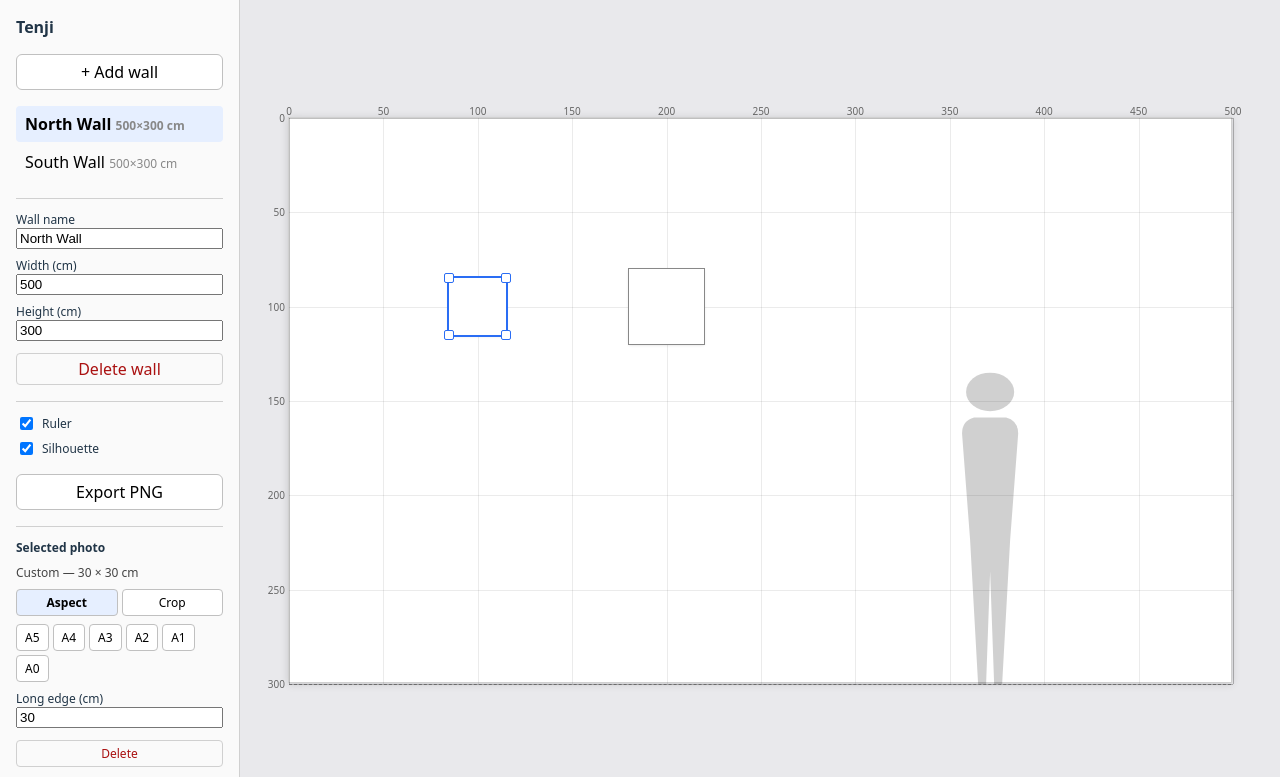
Test: App › copy/paste › right-click context menu Delete removes the selection
Right-click the element with test id "placement-pl-a": (478, 307) [450,278,506,335]
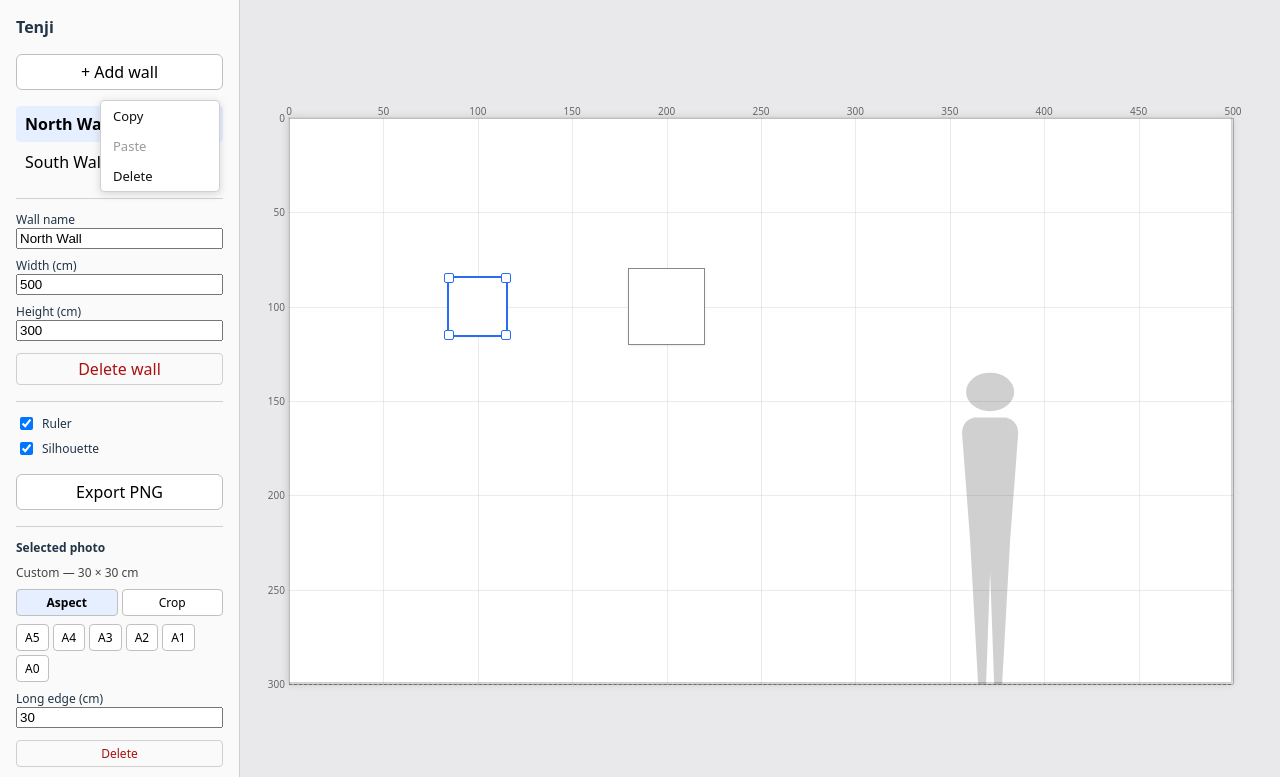
Click the 1st button "Delete": (160, 176) [101,161,219,191]
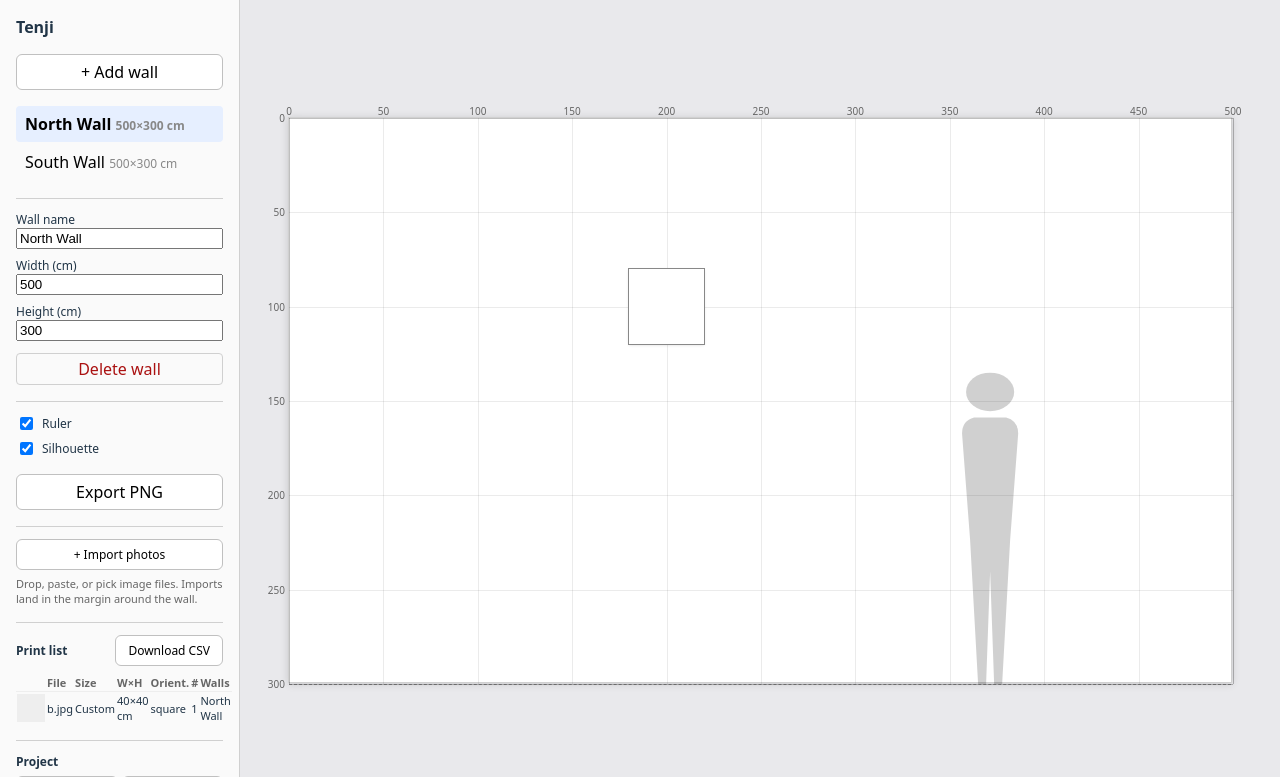
Expected: the element with test id "placement-pl-a" is gone
